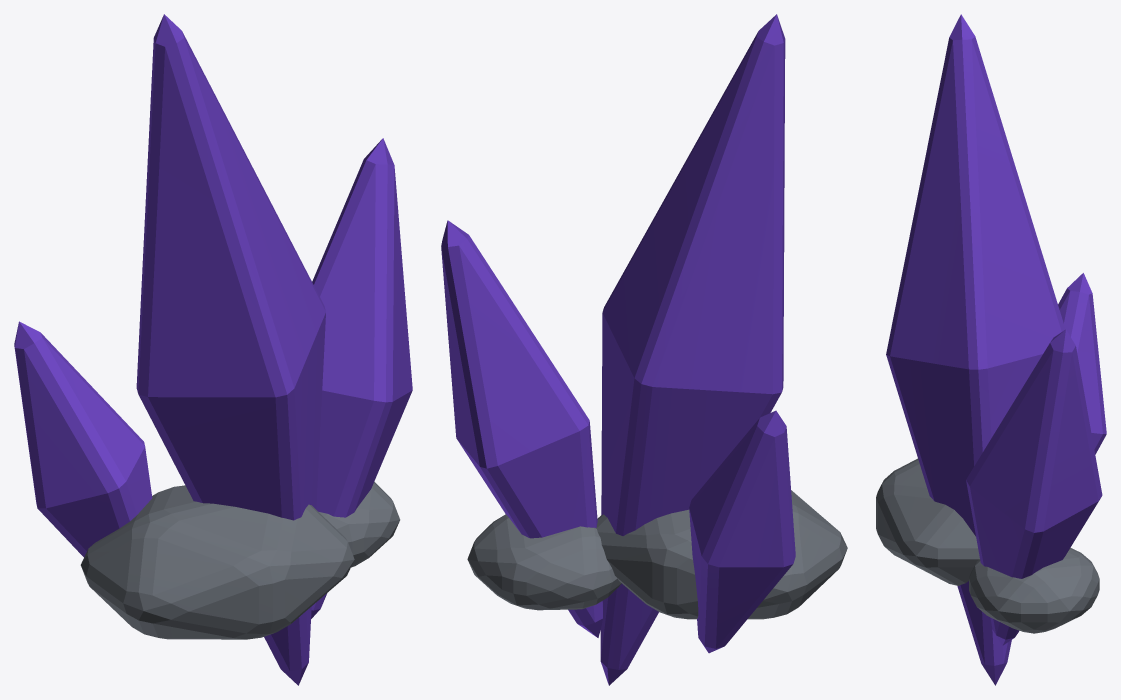
Rendered from prop_crystalB.glb.
3 renders of one model, left to right at view 1: azimuth 30°, elevation 25°; view 2: azimuth 150°, elevation 25°; view 3: azimuth 270°, elevation 25°, orthographic. The views are drawn at different scales.
Parts seen in each view (by area): view 1: prop_crystalB_part_0; view 2: prop_crystalB_part_0; view 3: prop_crystalB_part_0.
Boxes of the visible parts, left/top/right/bottom form: prop_crystalB_part_0: left=14, top=14, right=412, bottom=685; prop_crystalB_part_0: left=441, top=14, right=847, bottom=685; prop_crystalB_part_0: left=876, top=14, right=1106, bottom=685.
Size of the model in its own units: 0.7664 by 1.44 by 0.4949.
